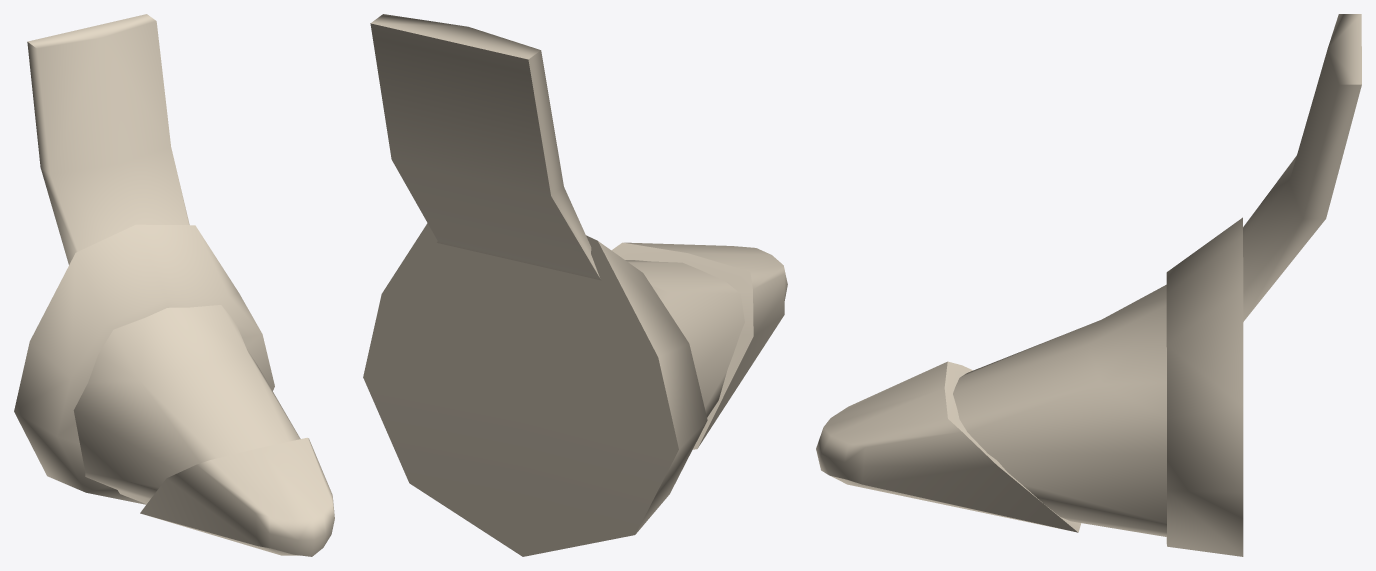
Rendered from bow-copperweapons.glb.
The picture shows the model from 3 angles, left to right: view 1: azimuth 30°, elevation 25°; view 2: azimuth 150°, elevation 25°; view 3: azimuth 270°, elevation 25°; orthographic projection. The views are drawn at different scales.
Bounding box in the file's own units: 0.4899 × 0.8359 × 0.8217.
